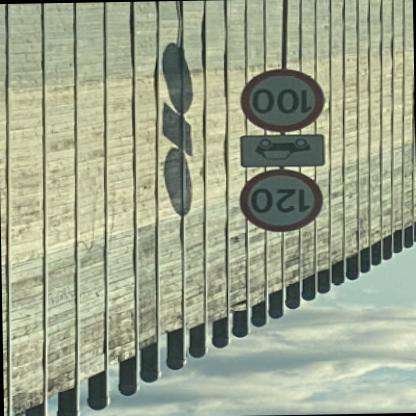speedlimit: (242, 70, 327, 134), (242, 170, 326, 233)
